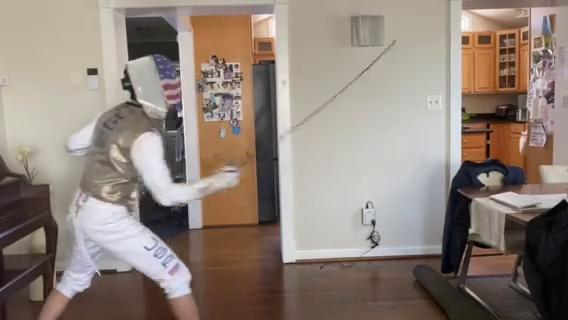blade-guard: (229, 156, 245, 180)
blade-tip: (363, 39, 399, 71)
fencing-blade: (222, 38, 402, 188)
